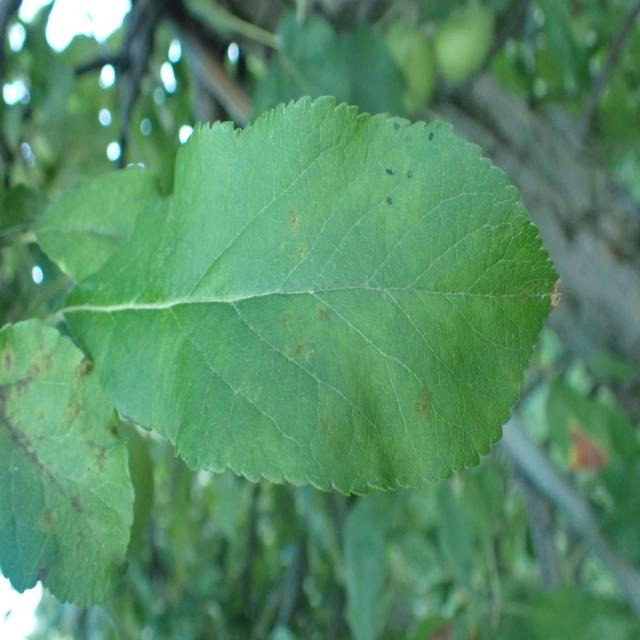scab: (122, 169, 513, 484), (0, 294, 115, 604)
